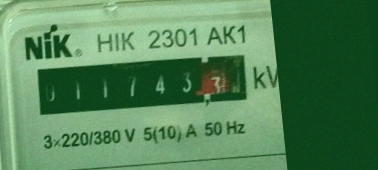0: (41, 76, 58, 104)
1: (68, 73, 84, 102), (96, 71, 111, 100)
3: (177, 67, 193, 95), (207, 74, 224, 96)
4: (151, 71, 167, 97)
7: (123, 71, 139, 98)
screen: (27, 42, 258, 128)
